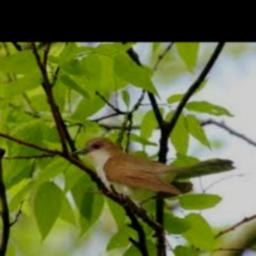Cuckoo: (72, 137, 236, 199)
